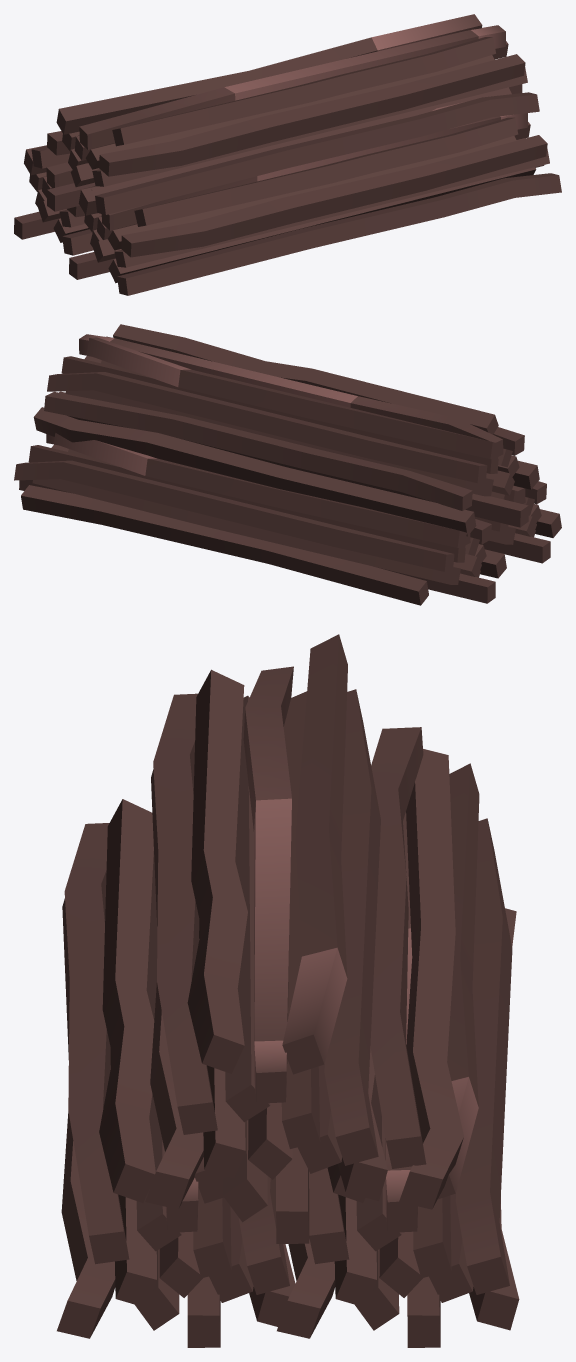
File: SM_Prop_SugarCane_Pile_02.glb
3 renders of one model, top to bottom at view 1: azimuth 30°, elevation 25°; view 2: azimuth 150°, elevation 25°; view 3: azimuth 270°, elevation 25°, orthographic. The views are drawn at different scales.
Parts seen in each view (by area): view 1: SM_Prop_SugarCane_Pile_02; view 2: SM_Prop_SugarCane_Pile_02; view 3: SM_Prop_SugarCane_Pile_02.
Boxes of the visible parts, box(x1,y1,x2,y2) form: SM_Prop_SugarCane_Pile_02: box(14, 14, 561, 295); SM_Prop_SugarCane_Pile_02: box(14, 324, 561, 605); SM_Prop_SugarCane_Pile_02: box(57, 634, 519, 1347).
Bounding box in the file's own units: 0.0204 × 0.00592 × 0.00875.
